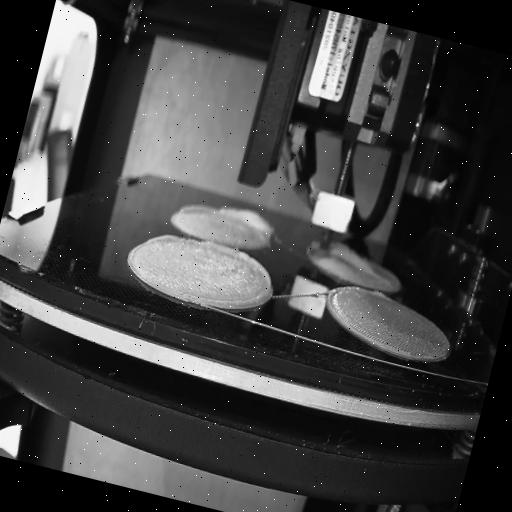over_extrusion: (195, 241, 282, 322), (214, 198, 280, 238), (326, 238, 386, 282), (146, 225, 182, 251), (178, 196, 212, 223), (371, 286, 392, 303)
